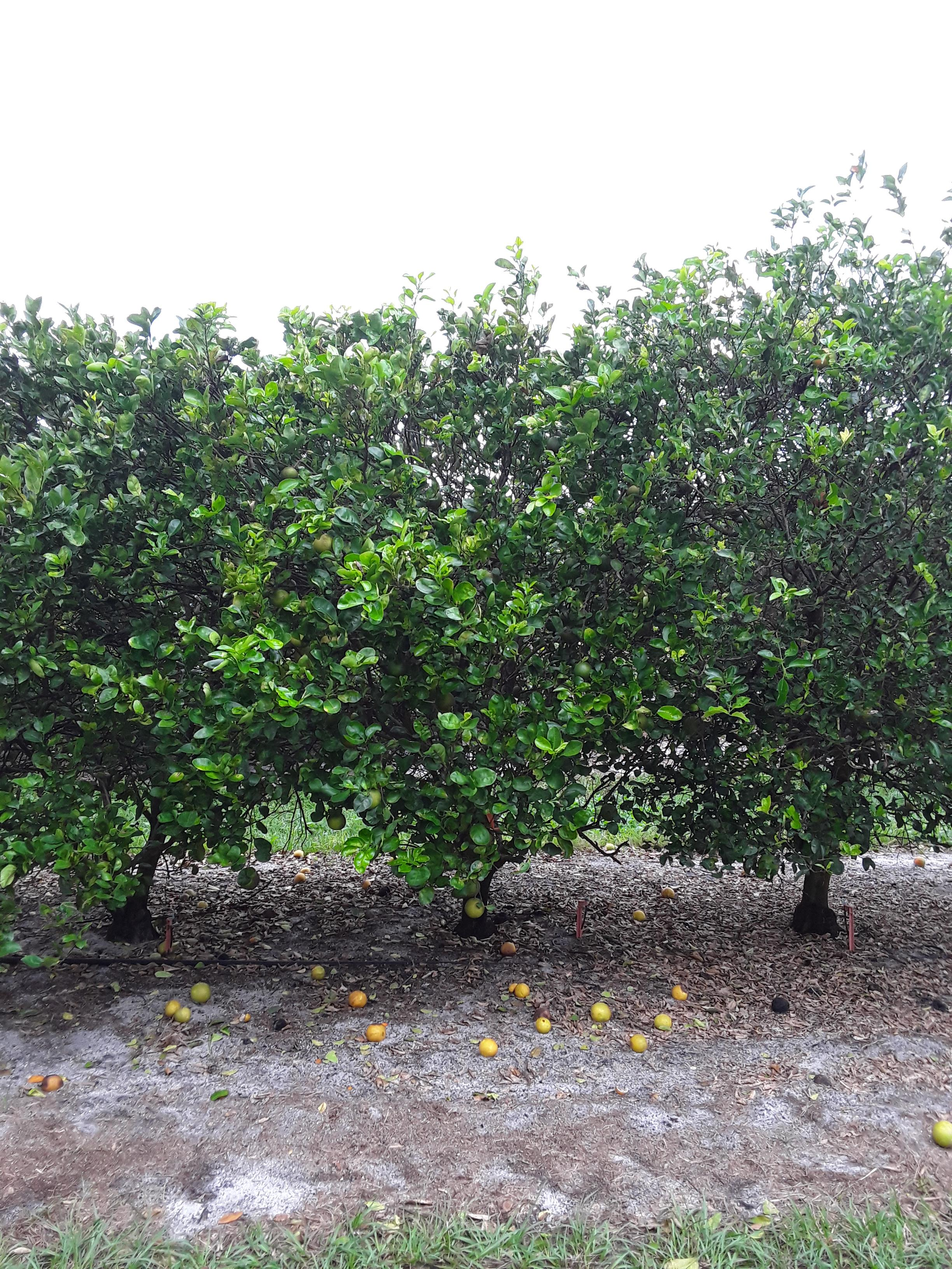fruit_on_ground: (807, 343, 836, 371), (682, 715, 711, 742), (630, 706, 656, 734), (457, 876, 485, 901), (235, 865, 261, 891), (358, 788, 384, 812), (310, 531, 335, 555), (755, 855, 780, 878), (384, 655, 408, 678), (433, 690, 457, 713), (462, 895, 486, 918), (542, 433, 566, 456), (809, 485, 832, 508), (572, 658, 595, 680), (326, 811, 348, 832), (287, 630, 309, 649), (598, 803, 620, 822), (279, 463, 301, 482), (270, 587, 290, 607), (559, 626, 580, 645)
fruit_on_tree: (654, 1253, 709, 1269), (931, 1116, 952, 1149), (187, 981, 213, 1005), (589, 1000, 613, 1023), (477, 1036, 500, 1059), (365, 1021, 387, 1044), (770, 994, 793, 1015), (346, 988, 369, 1009), (41, 1074, 64, 1094), (653, 1010, 674, 1031), (630, 1033, 649, 1054), (172, 1005, 192, 1024), (512, 981, 532, 1000), (670, 983, 689, 1002), (534, 1015, 553, 1034), (164, 998, 182, 1017), (812, 1071, 831, 1088), (499, 939, 518, 956), (310, 963, 327, 981), (630, 906, 646, 922), (534, 1006, 552, 1020), (660, 884, 676, 899), (26, 1073, 44, 1086), (271, 1016, 287, 1030), (506, 981, 520, 995), (376, 884, 391, 897), (912, 854, 927, 867), (360, 877, 373, 890), (196, 897, 209, 909), (293, 872, 306, 884), (292, 849, 306, 860), (299, 865, 313, 876), (240, 1011, 252, 1023), (247, 934, 258, 944), (179, 893, 190, 901)
